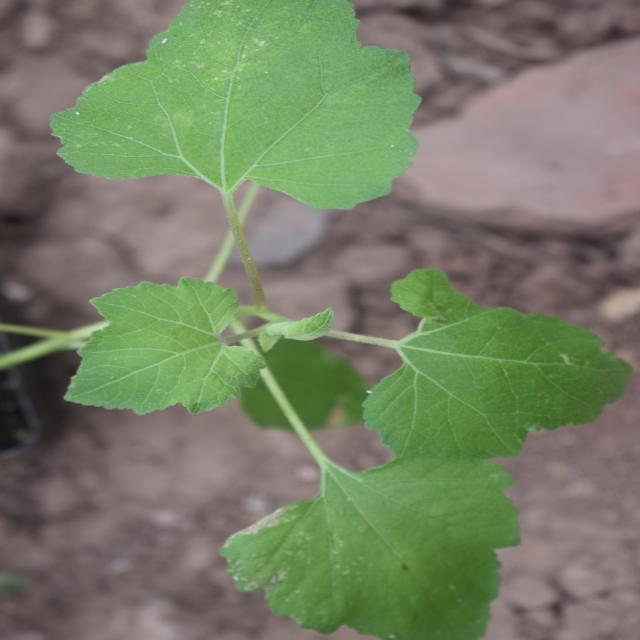cocklebur: (10, 54, 630, 556)
